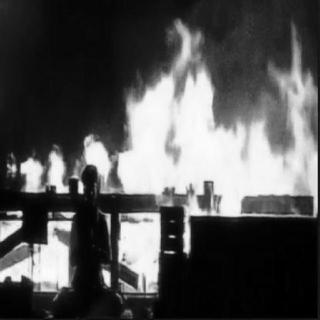Fire: (4, 11, 314, 310)
